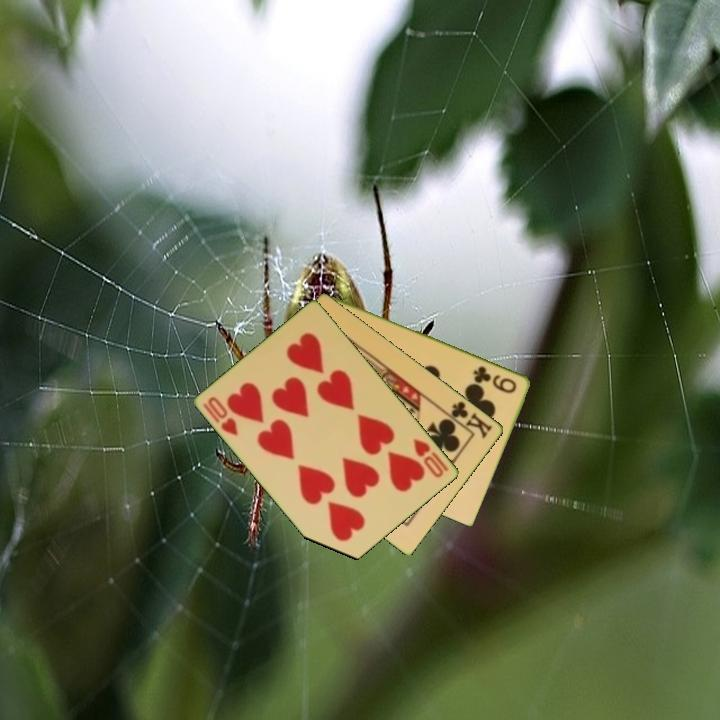10h: (200, 393, 242, 439), (410, 435, 452, 480)
9c: (469, 362, 520, 396)
Kc: (441, 397, 496, 441)
